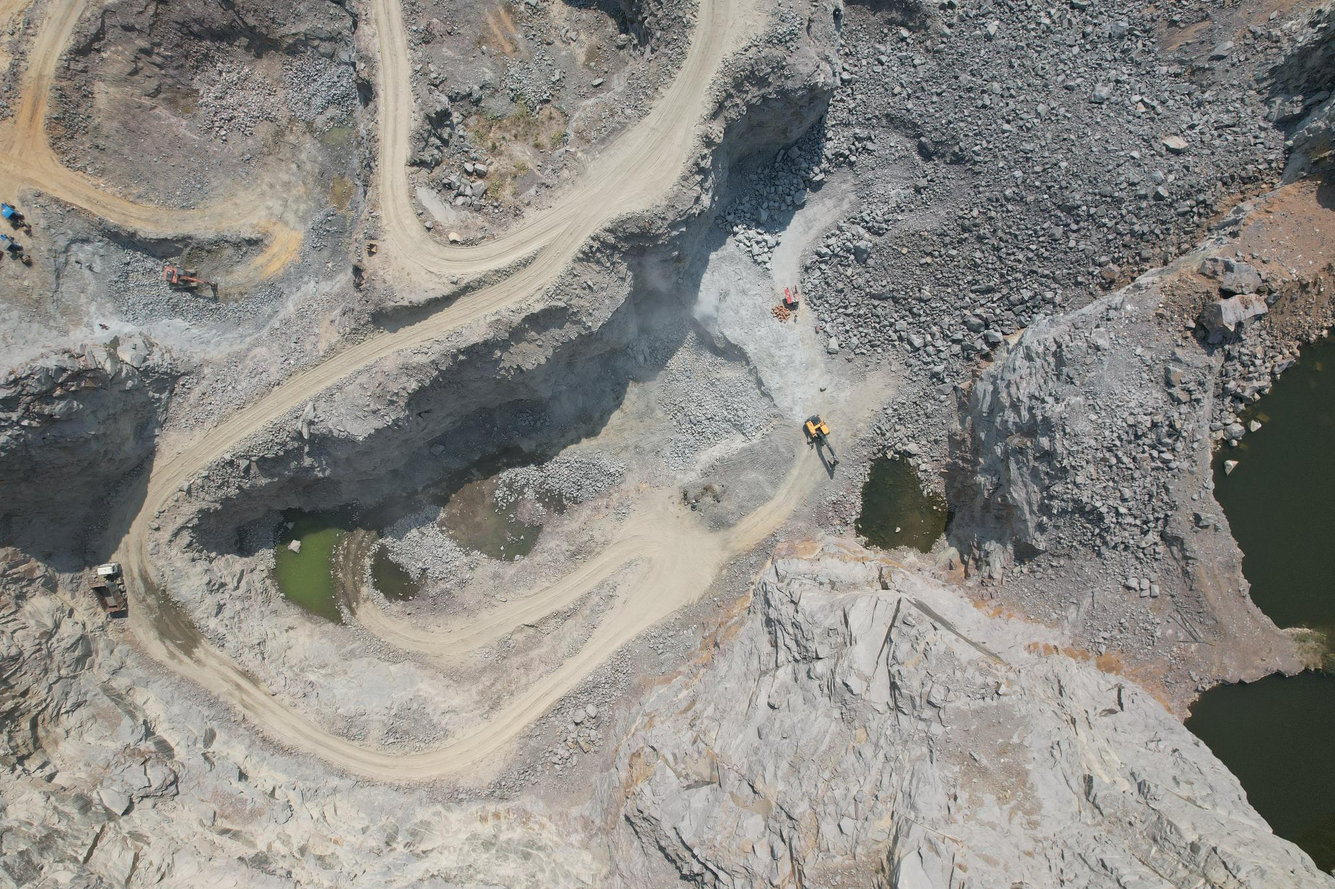benches: (115, 0, 812, 781), (0, 0, 267, 237)
excavator: (152, 260, 225, 298), (810, 417, 853, 463)
